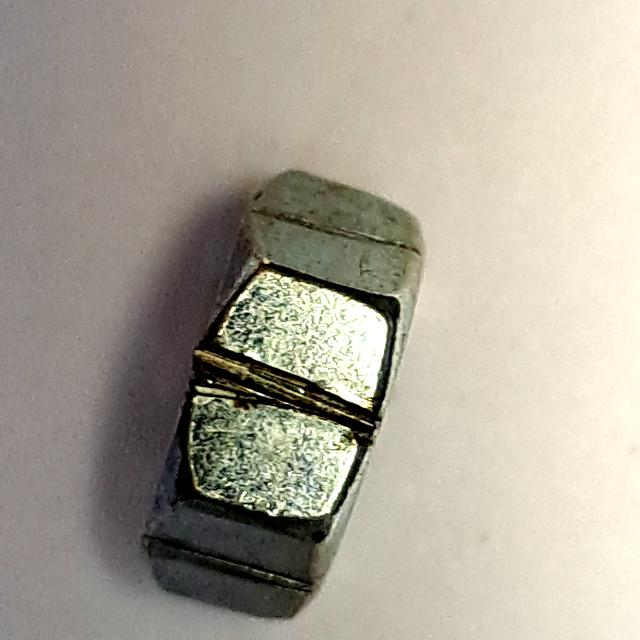Side_Scratches: (100, 140, 458, 640)
